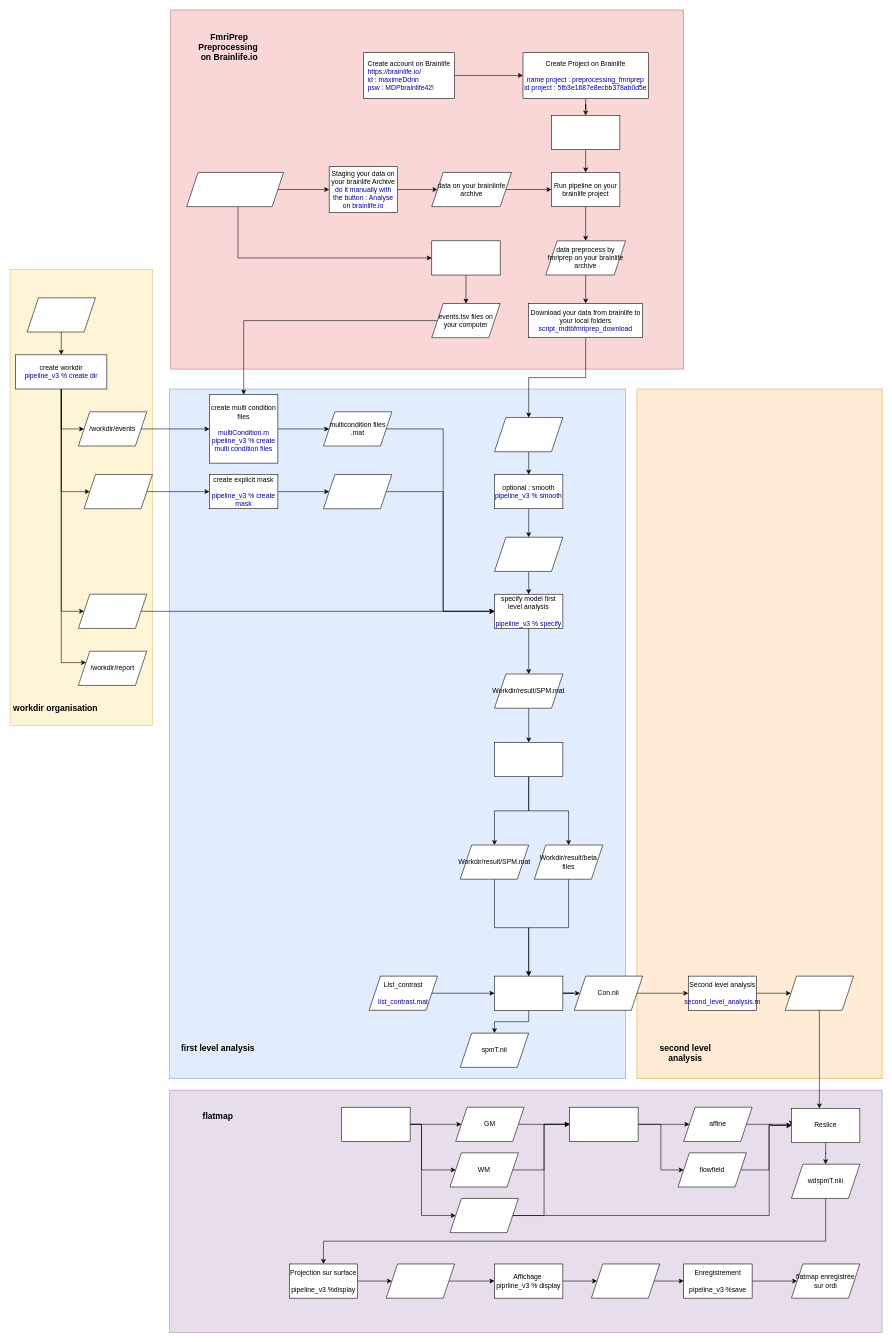
Image size: 892x1342. Some labels were removed from this diagram. The shapes that lost their labels are listed below. From the top down, each one's centre as x and y in pixels, then its label:
(585,132): Create Pipeline on your Brainlife project
(235,189): data open neuro https://openneuro.org/ datasets/ds002105/ versions/1.1.0
(465,257): download events file on your local folder
(61,314): /workdir
(528,434): data preprocess by fmriprep on your local folder
(118,491): /workdir/mask
(357,491): explicit mask .nii
(528,554): data preprocess by fmriprep + smooth
(112,611): /workdir/result
(528,759): estimate model pipeline_v3 %estimate
(528,993): Contrast Manager
(819,993): spmtT second level
(375,1124): Isolate pipeline_v3 % isolate
(603,1124): Normalize pipeline_v3 % normalise
(483,1215): isolation mask
(420,1280): surface
(625,1280): figure
